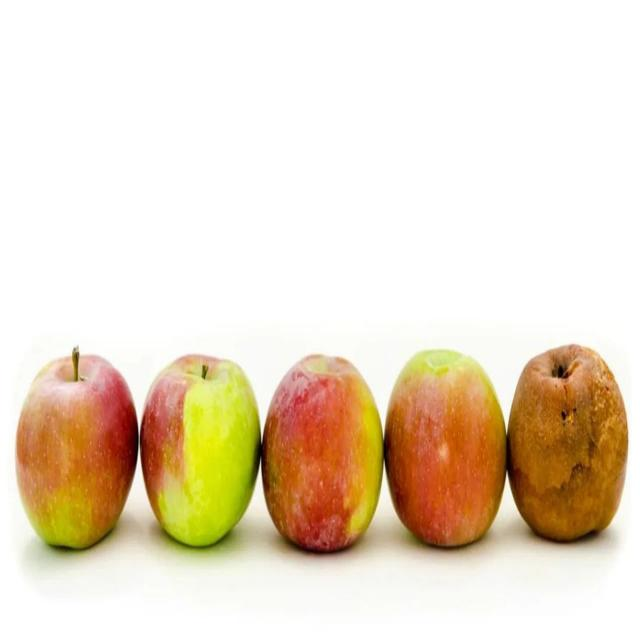fresh_apple: (15, 354, 140, 552), (384, 350, 508, 549), (264, 354, 382, 554), (142, 350, 260, 549)
rotten_apple: (512, 346, 630, 544)
